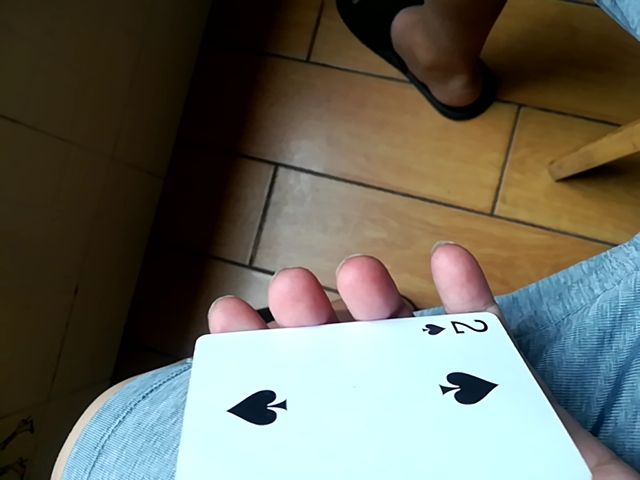ht 2: (173, 308, 594, 479)
